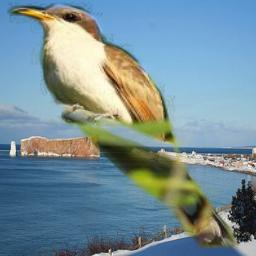Cuckoo: (7, 0, 239, 251)
